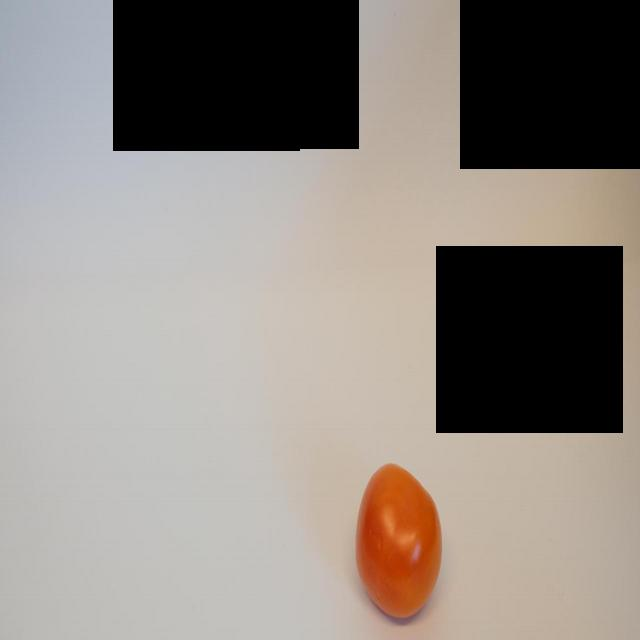tomato: (352, 457, 447, 620)
